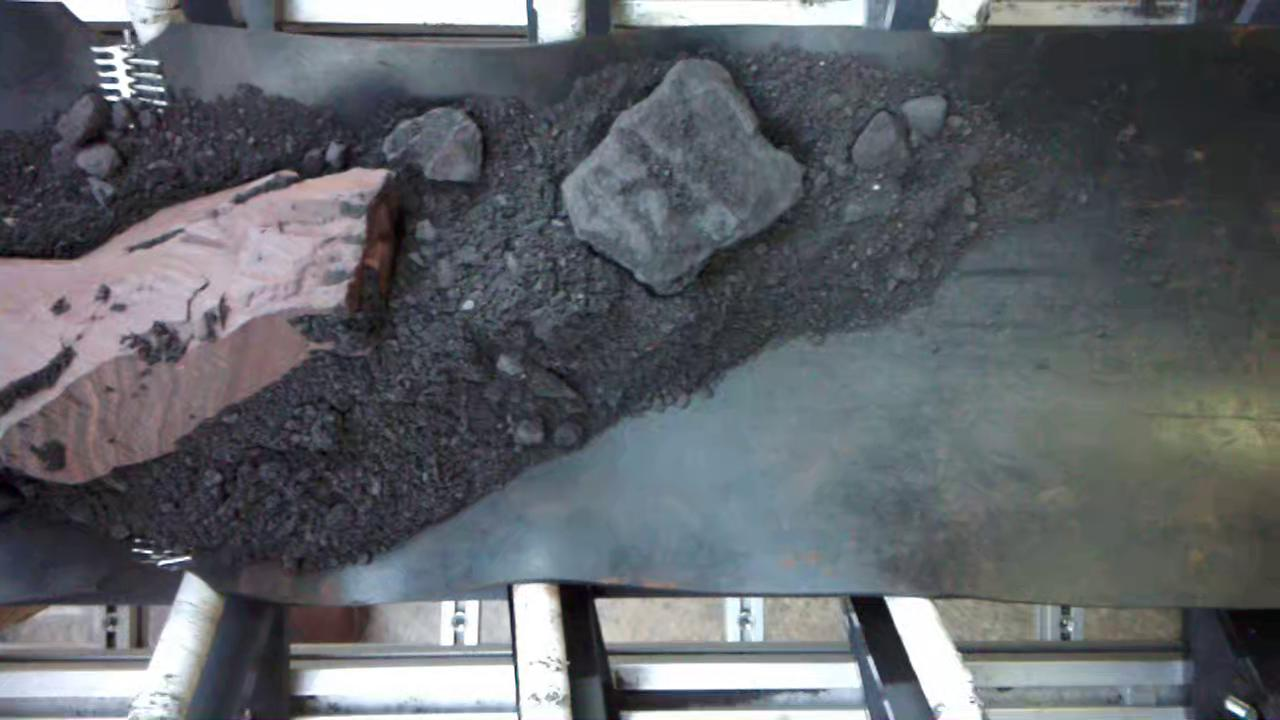conveyor: (8, 33, 1272, 592)
